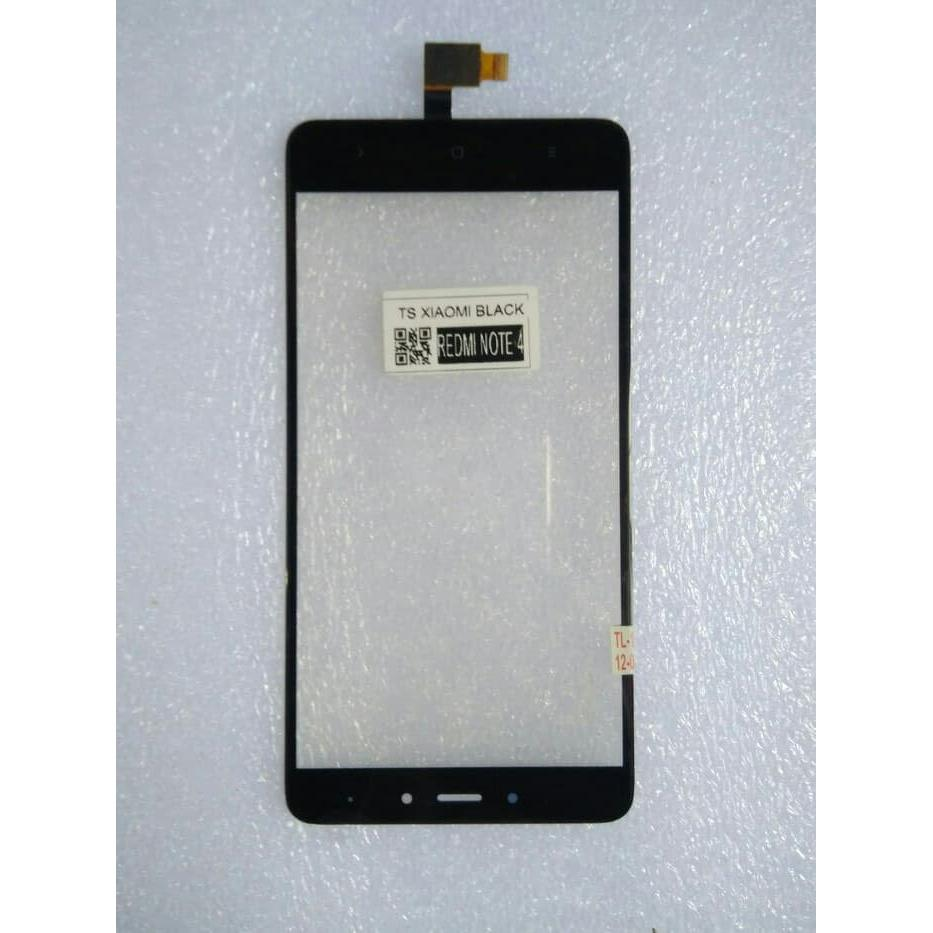Handphone: (279, 110, 647, 839)
